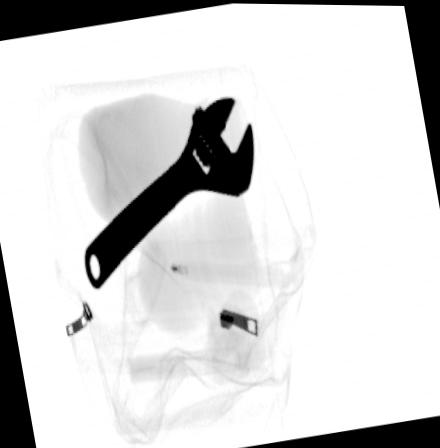Wrench: (83, 94, 255, 291)
